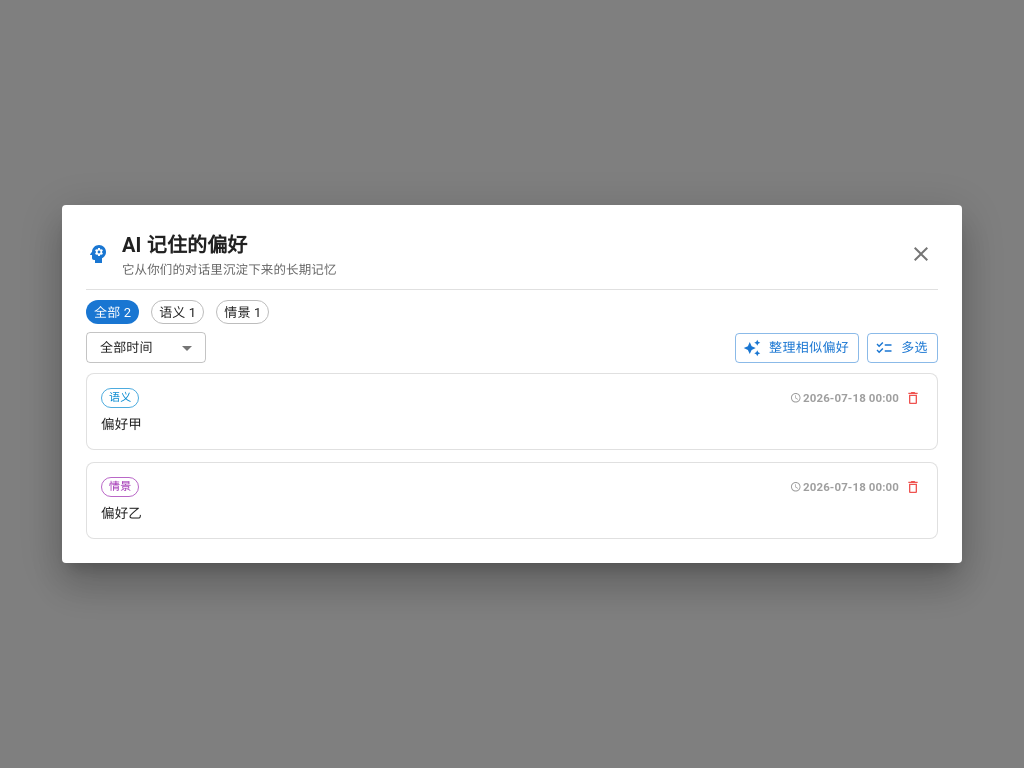
Test: MemoryDrawer › 类型筛选：点「语义」只保留 semantic 条目
Expected: the text "偏好甲" is shown, [101,416,142,432]
Click the button "语义 1" at (178, 312), box [151,300,204,324]
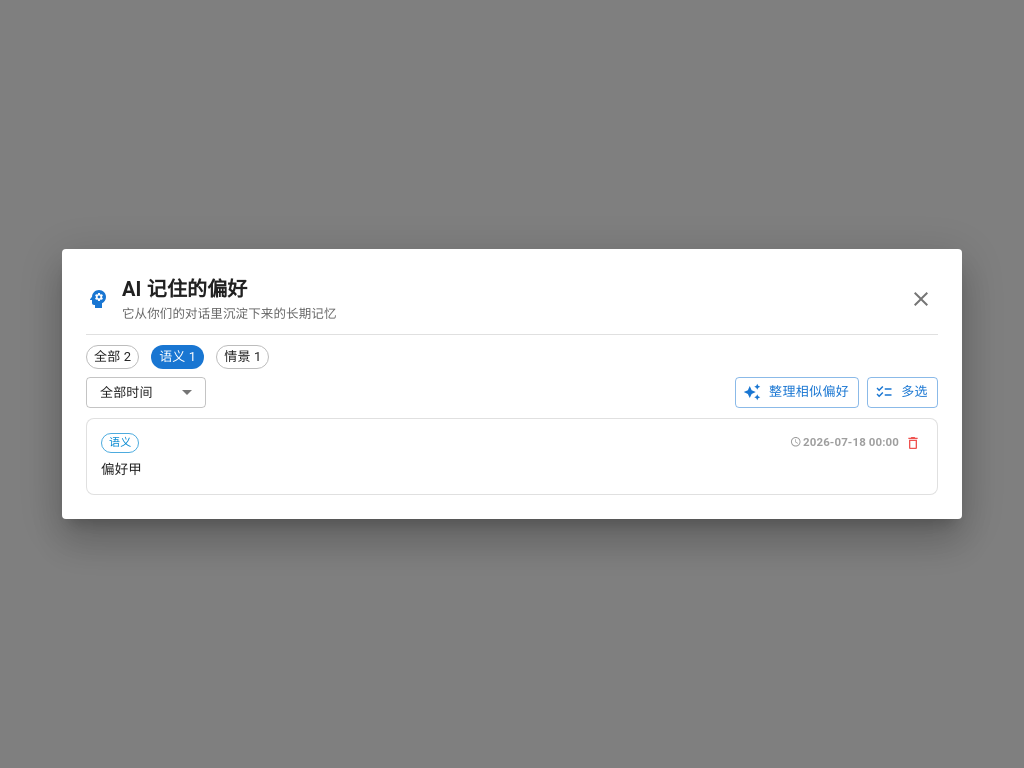
Expected: the text "偏好甲" is shown, [101,461,142,477]
Result: the text "偏好乙" is gone
